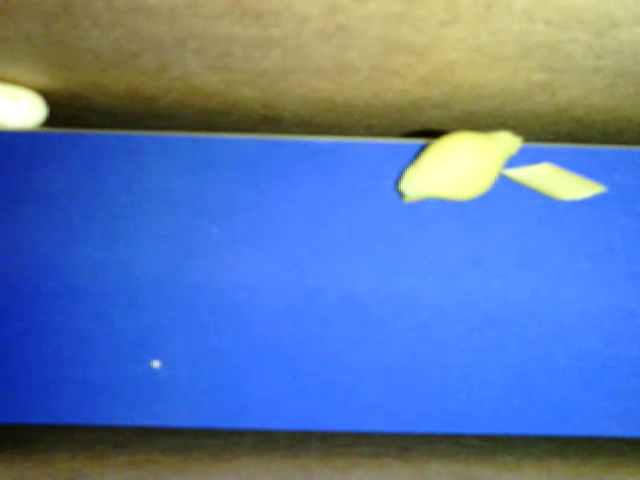penne: (500, 161, 607, 203)
shell: (396, 129, 522, 203)
